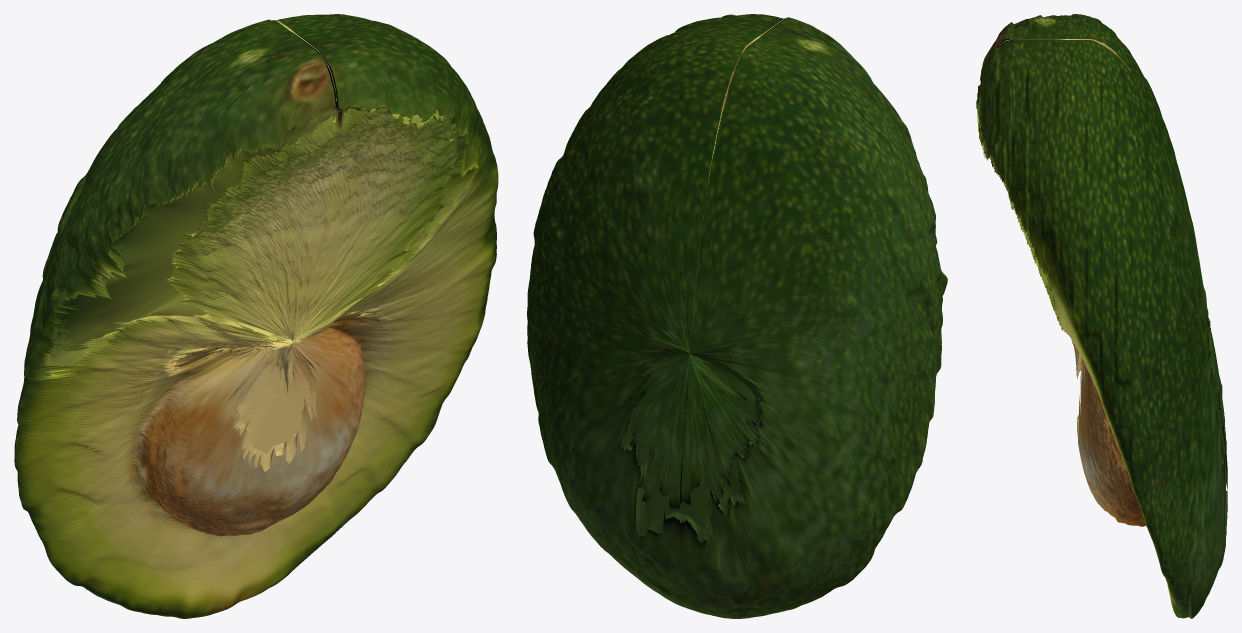
The model's file is mesh_inpaint.glb.
3 views of the same model, side by side, from view 1: azimuth 30°, elevation 25°; view 2: azimuth 150°, elevation 25°; view 3: azimuth 270°, elevation 25° (orthographic). The views are drawn at different scales.
Visible parts, largest first — view 1: ipn, fill; view 2: ipn, fill; view 3: ipn, fill.
Boxes of the visible parts, x1,y1,x2,y2 form: ipn: [14, 14, 498, 618]; fill: [41, 107, 478, 471]; ipn: [527, 14, 947, 618]; fill: [620, 347, 766, 545]; ipn: [976, 14, 1227, 618]; fill: [976, 78, 1227, 548].
Bounding box in the file's own units: 1.58 × 2 × 0.7984.
Materials: 2 (1 with a texture image).
